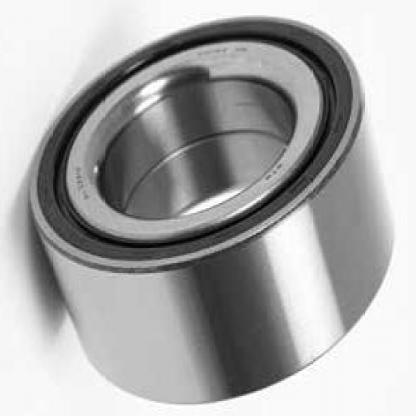FOD: (26, 13, 400, 408)
